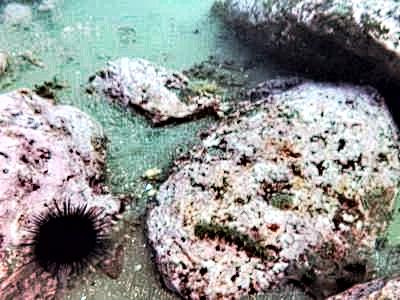urchin: (15, 195, 116, 280)
